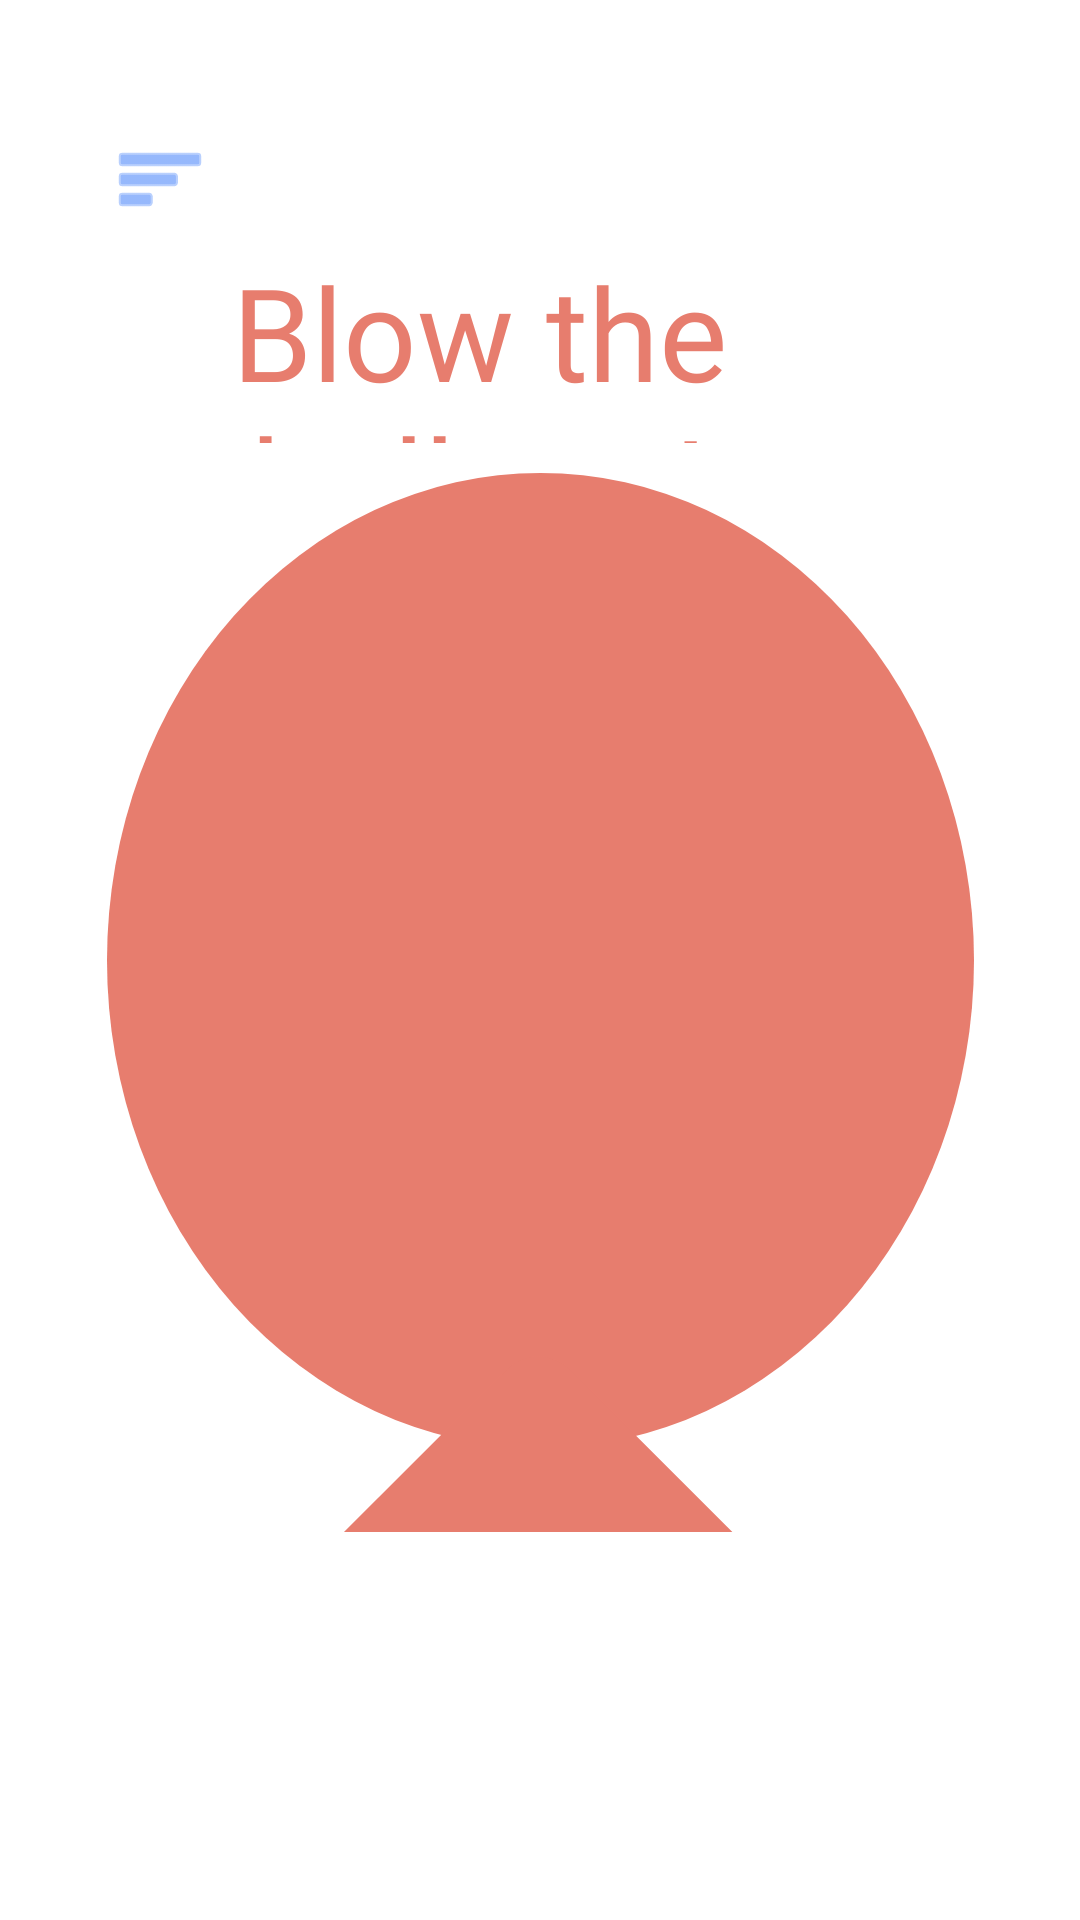

Screen size 1080x1920. Icon name, then its box in pixels as (x1, y1, x2, y2):
sort by size: (119, 153, 201, 206)
